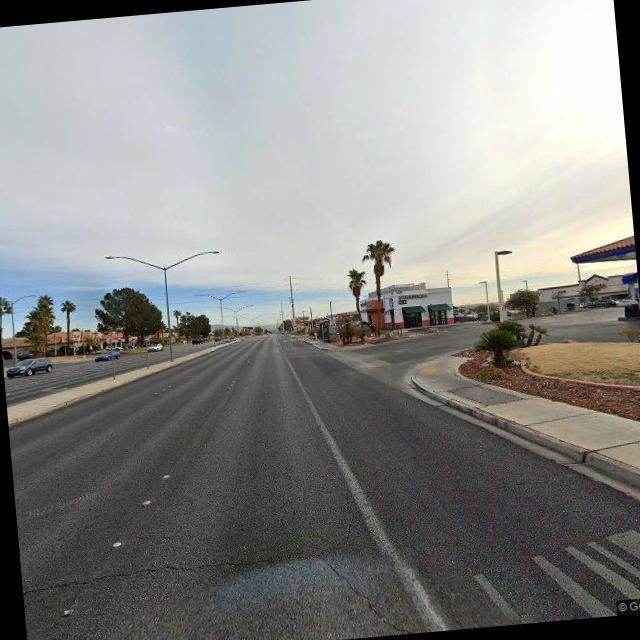crack: (20, 534, 322, 605), (318, 548, 420, 640)
